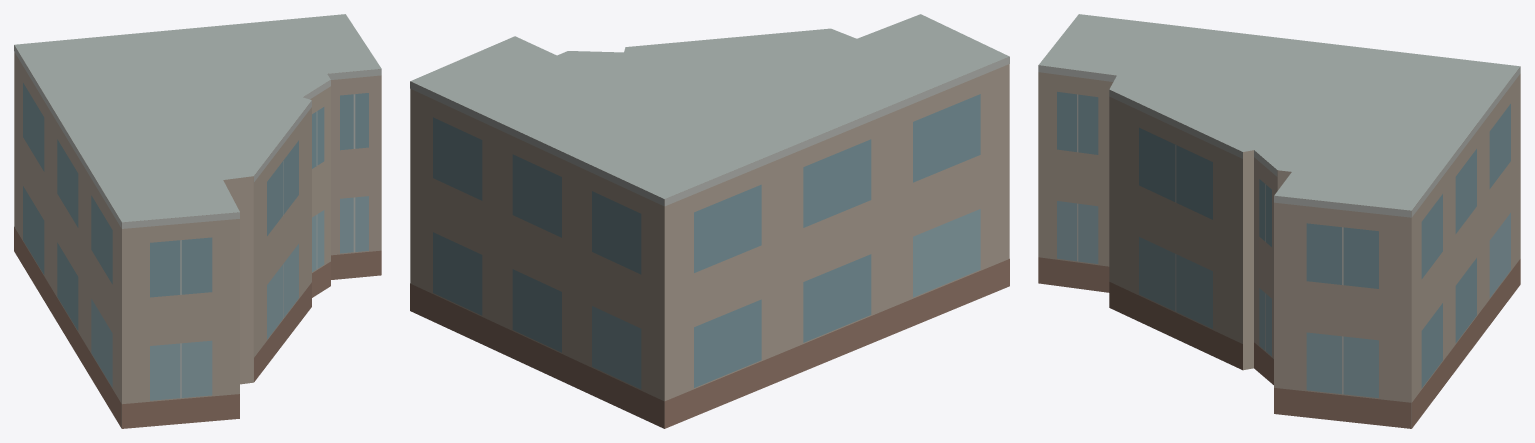
The model's file is survey-upis-32642310.glb.
The picture shows the model from 3 angles, left to right: view 1: azimuth 30°, elevation 25°; view 2: azimuth 150°, elevation 25°; view 3: azimuth 270°, elevation 25°; orthographic projection. The views are drawn at different scales.
Visible parts, largest first — view 1: survey-upis-32642310.tmp; view 2: survey-upis-32642310.tmp; view 3: survey-upis-32642310.tmp.
Part boxes in pixels (x1,y1,x2,y2): survey-upis-32642310.tmp: (14,14,381,428); survey-upis-32642310.tmp: (410,14,1009,428); survey-upis-32642310.tmp: (1038,14,1520,428).
Size of the model in its own units: 14.7 by 7.6 by 15.23.
